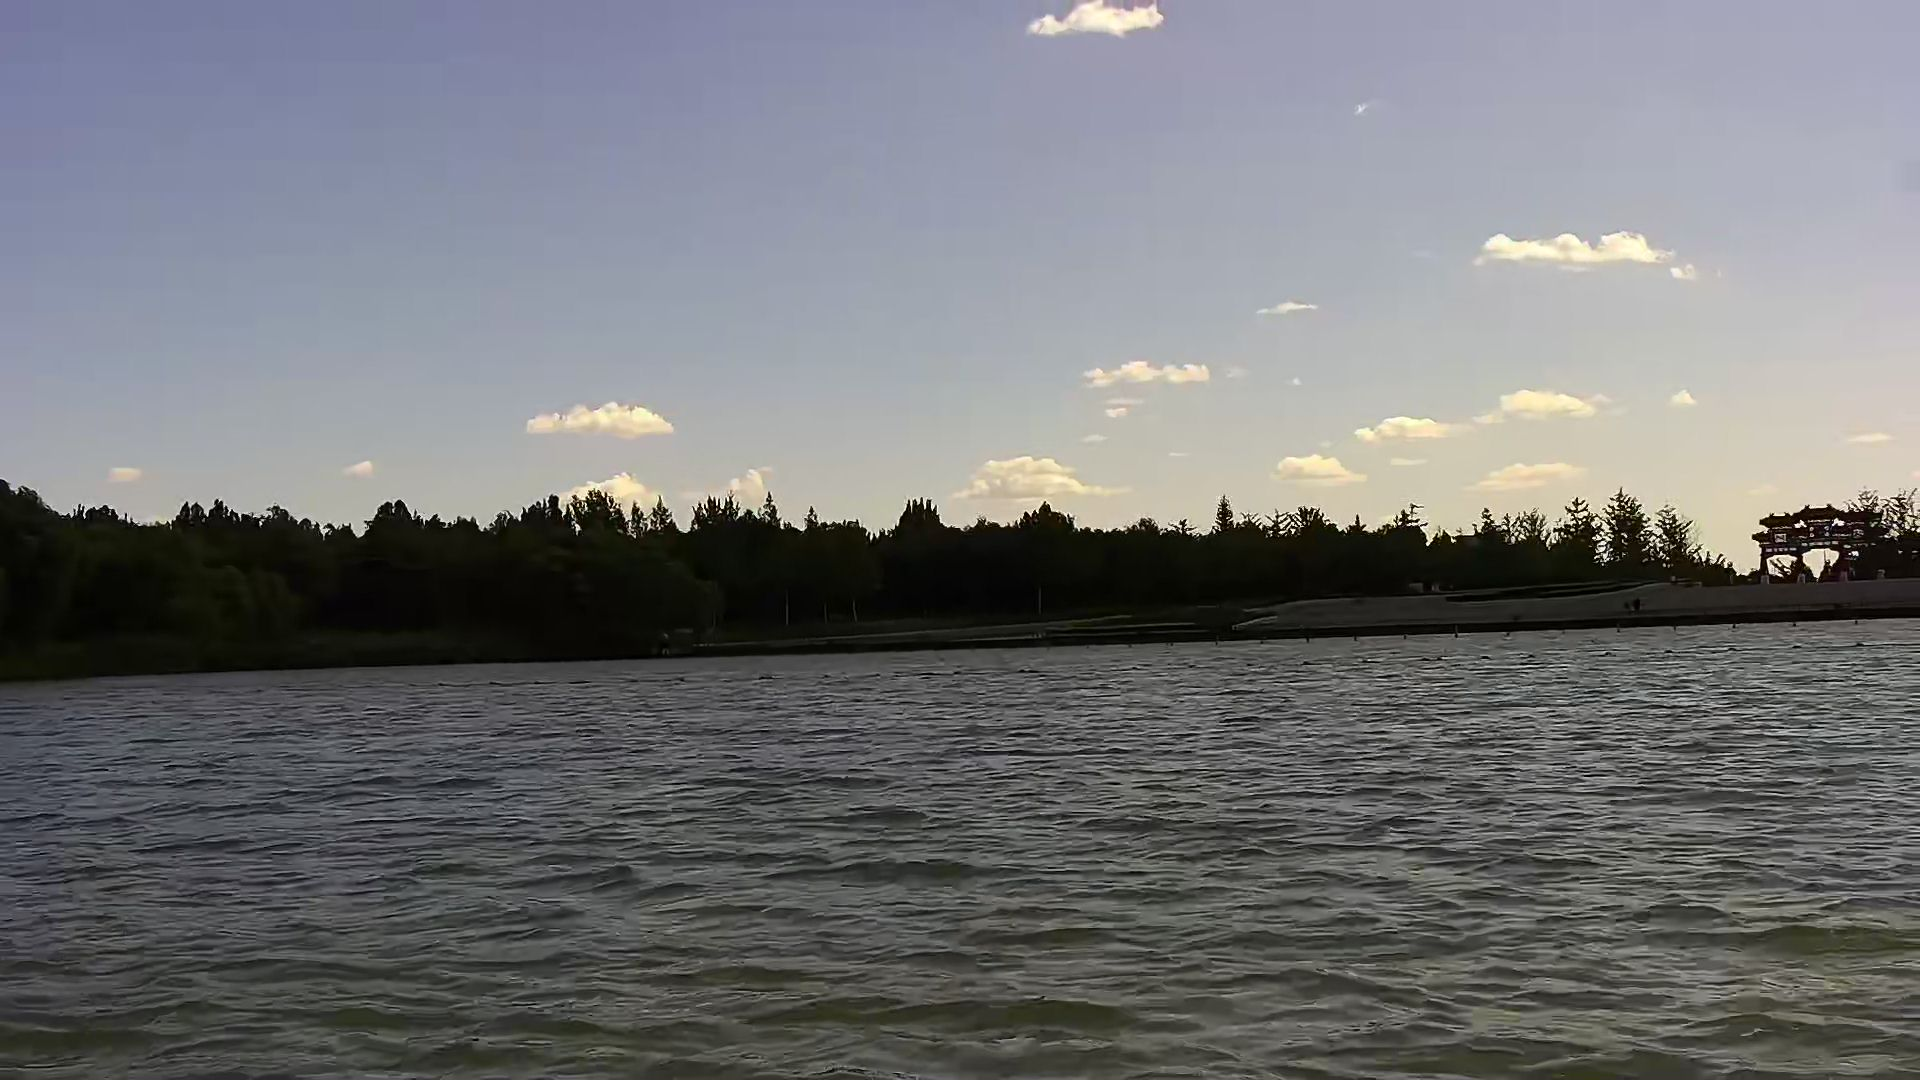harbor: (673, 582, 1920, 665)
